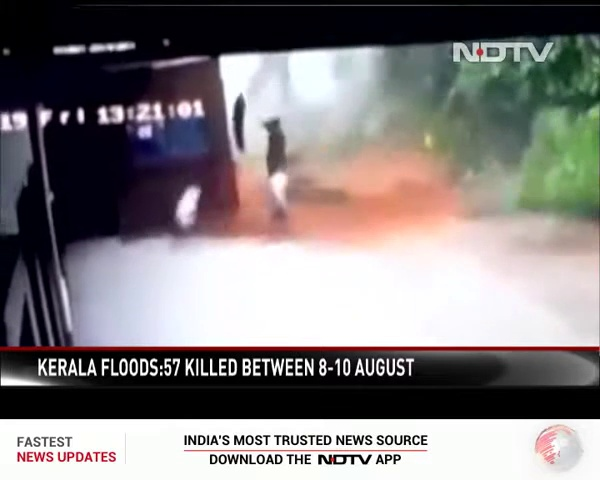person: (258, 118, 294, 223)
